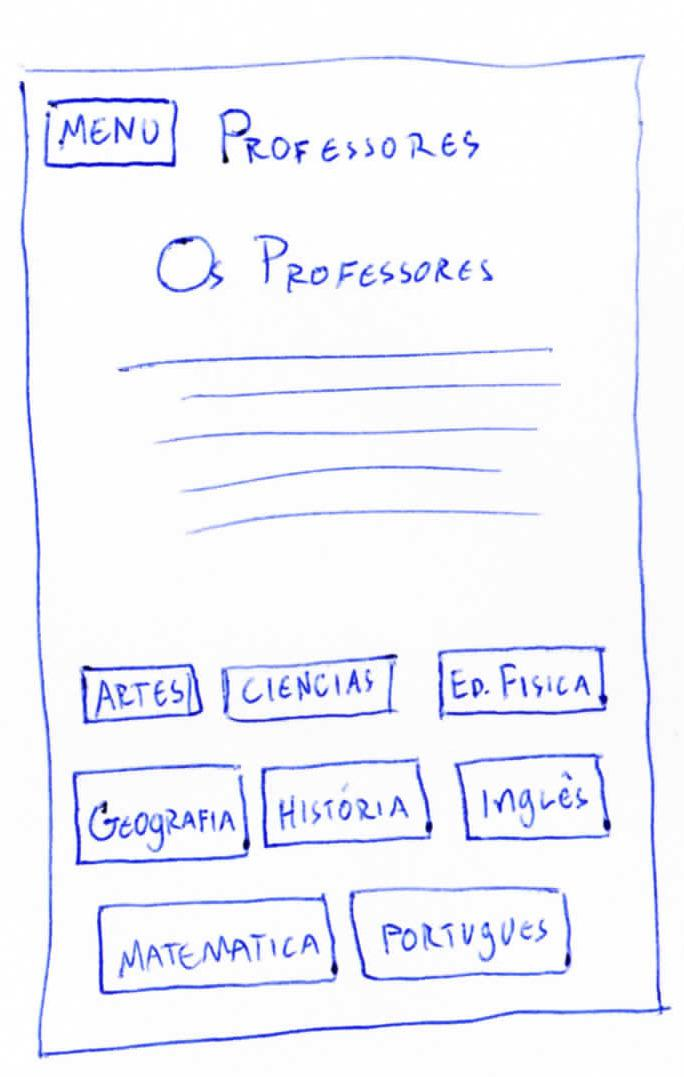Button: (97, 897, 337, 995), (349, 887, 572, 981), (73, 763, 249, 866), (262, 759, 432, 849), (459, 753, 611, 841), (439, 645, 606, 717), (222, 655, 396, 722), (44, 99, 179, 170), (81, 662, 204, 724)
Label: (118, 346, 561, 537), (156, 235, 497, 295), (218, 108, 481, 165)
Screen: (23, 54, 660, 1057)
